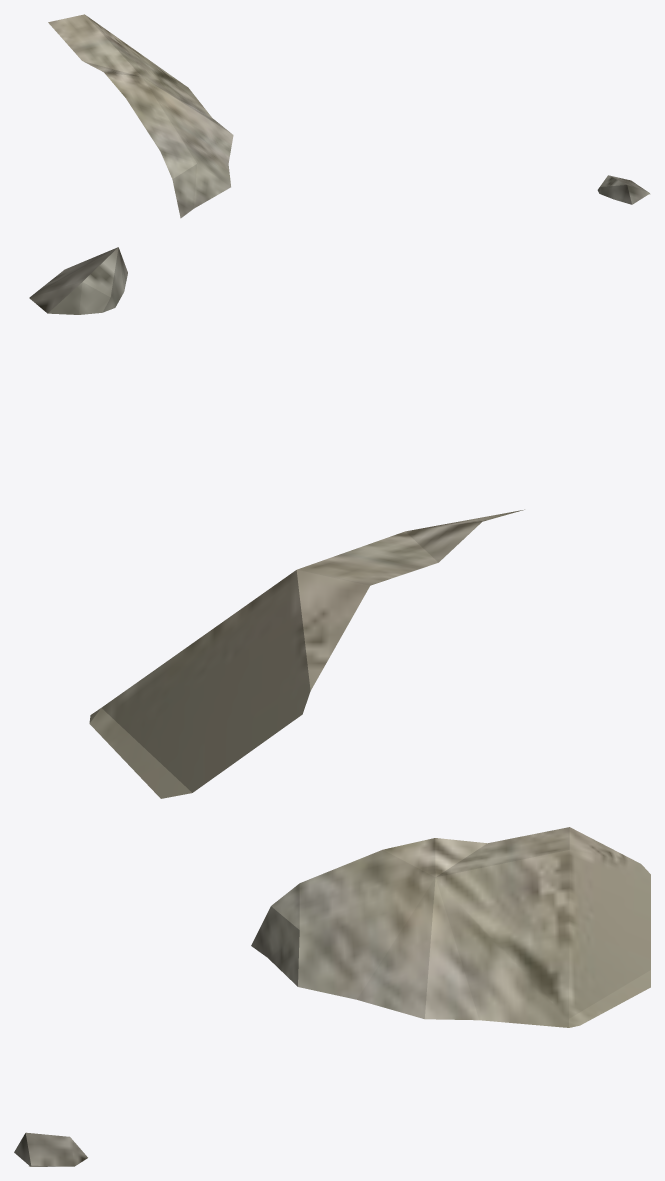
The picture shows the model from 3 angles, top to bottom: view 1: azimuth 30°, elevation 25°; view 2: azimuth 150°, elevation 25°; view 3: azimuth 270°, elevation 25°; orthographic projection. The views are drawn at different scales.
Bounding box in the file's own units: 2.4 × 0.6015 × 2.92.
Materials: 1 (1 with a texture image).
